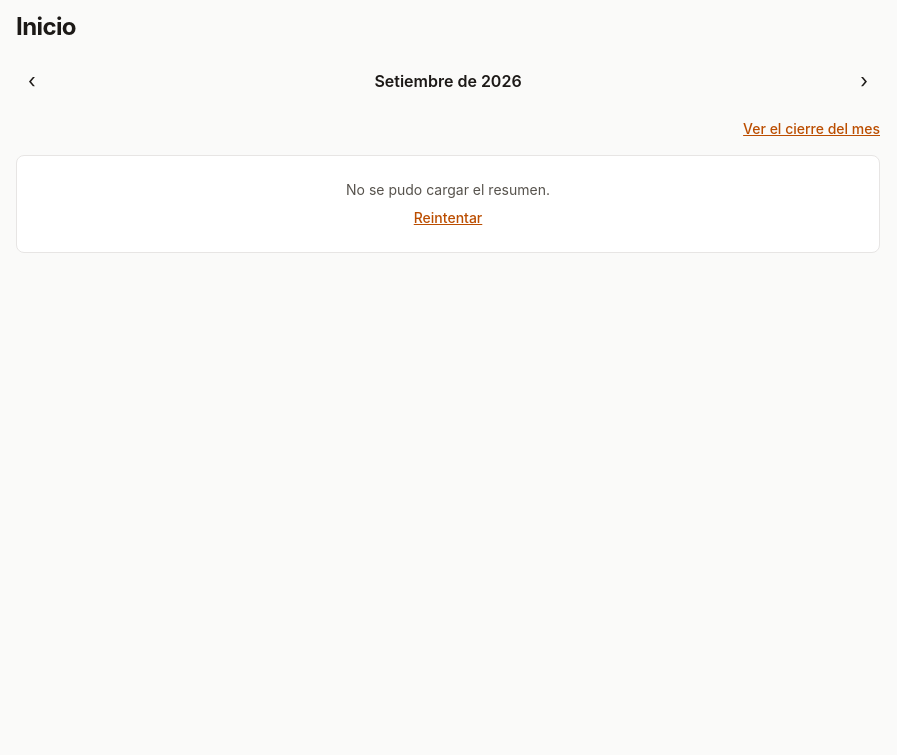
Test: DashboardScreen › offers to retry when the dashboard does not load
Step 1. Click the button "Reintentar" → (448, 218), box [414, 208, 482, 228]
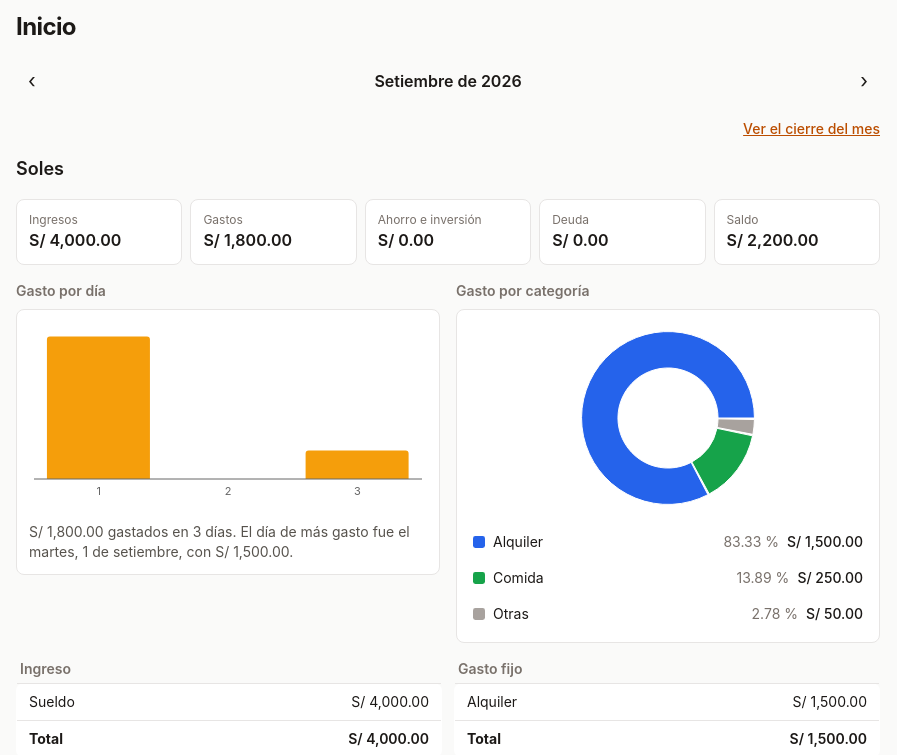
Expected: the element named "Resumen en soles" is shown, [16, 199, 880, 265]
